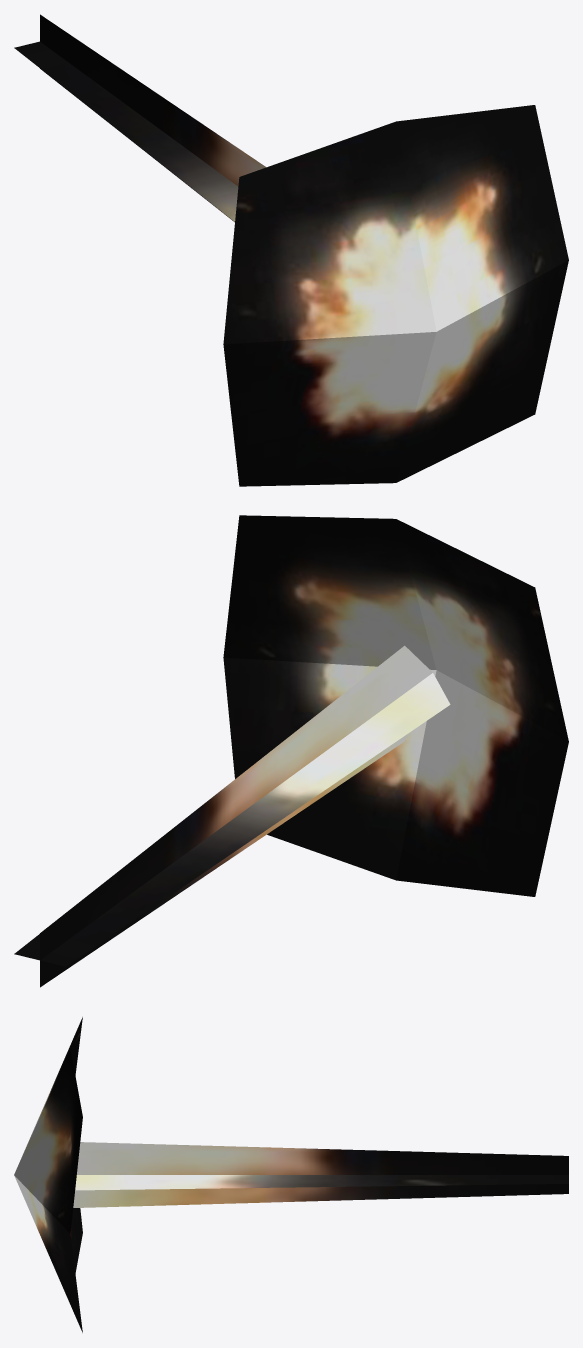
Rendered from ThirdPersonMuzzleFlash (fbx).fbx.
3 renders of one model, top to bottom at view 1: azimuth 30°, elevation 25°; view 2: azimuth 150°, elevation 25°; view 3: azimuth 270°, elevation 25°, orthographic. The views are drawn at different scales.
Visible parts, largest first — view 1: Cube; view 2: Cube; view 3: Cube.
Part boxes in pixels (x1=…): Cube: x1=14, y1=14, x2=568, y2=486; Cube: x1=14, y1=515, x2=568, y2=987; Cube: x1=14, y1=1017, x2=568, y2=1332.
Bounding box in the file's own units: 2 × 2 × 3.98.
